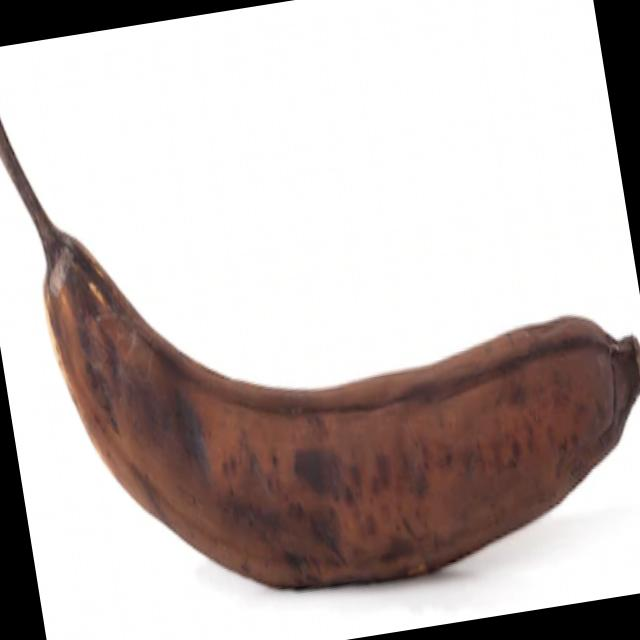rotten-banana: (5, 88, 640, 625)
